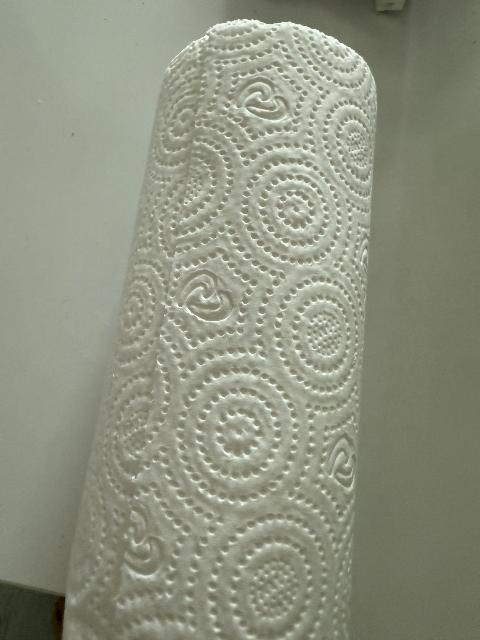Kagit: (63, 20, 379, 638)
